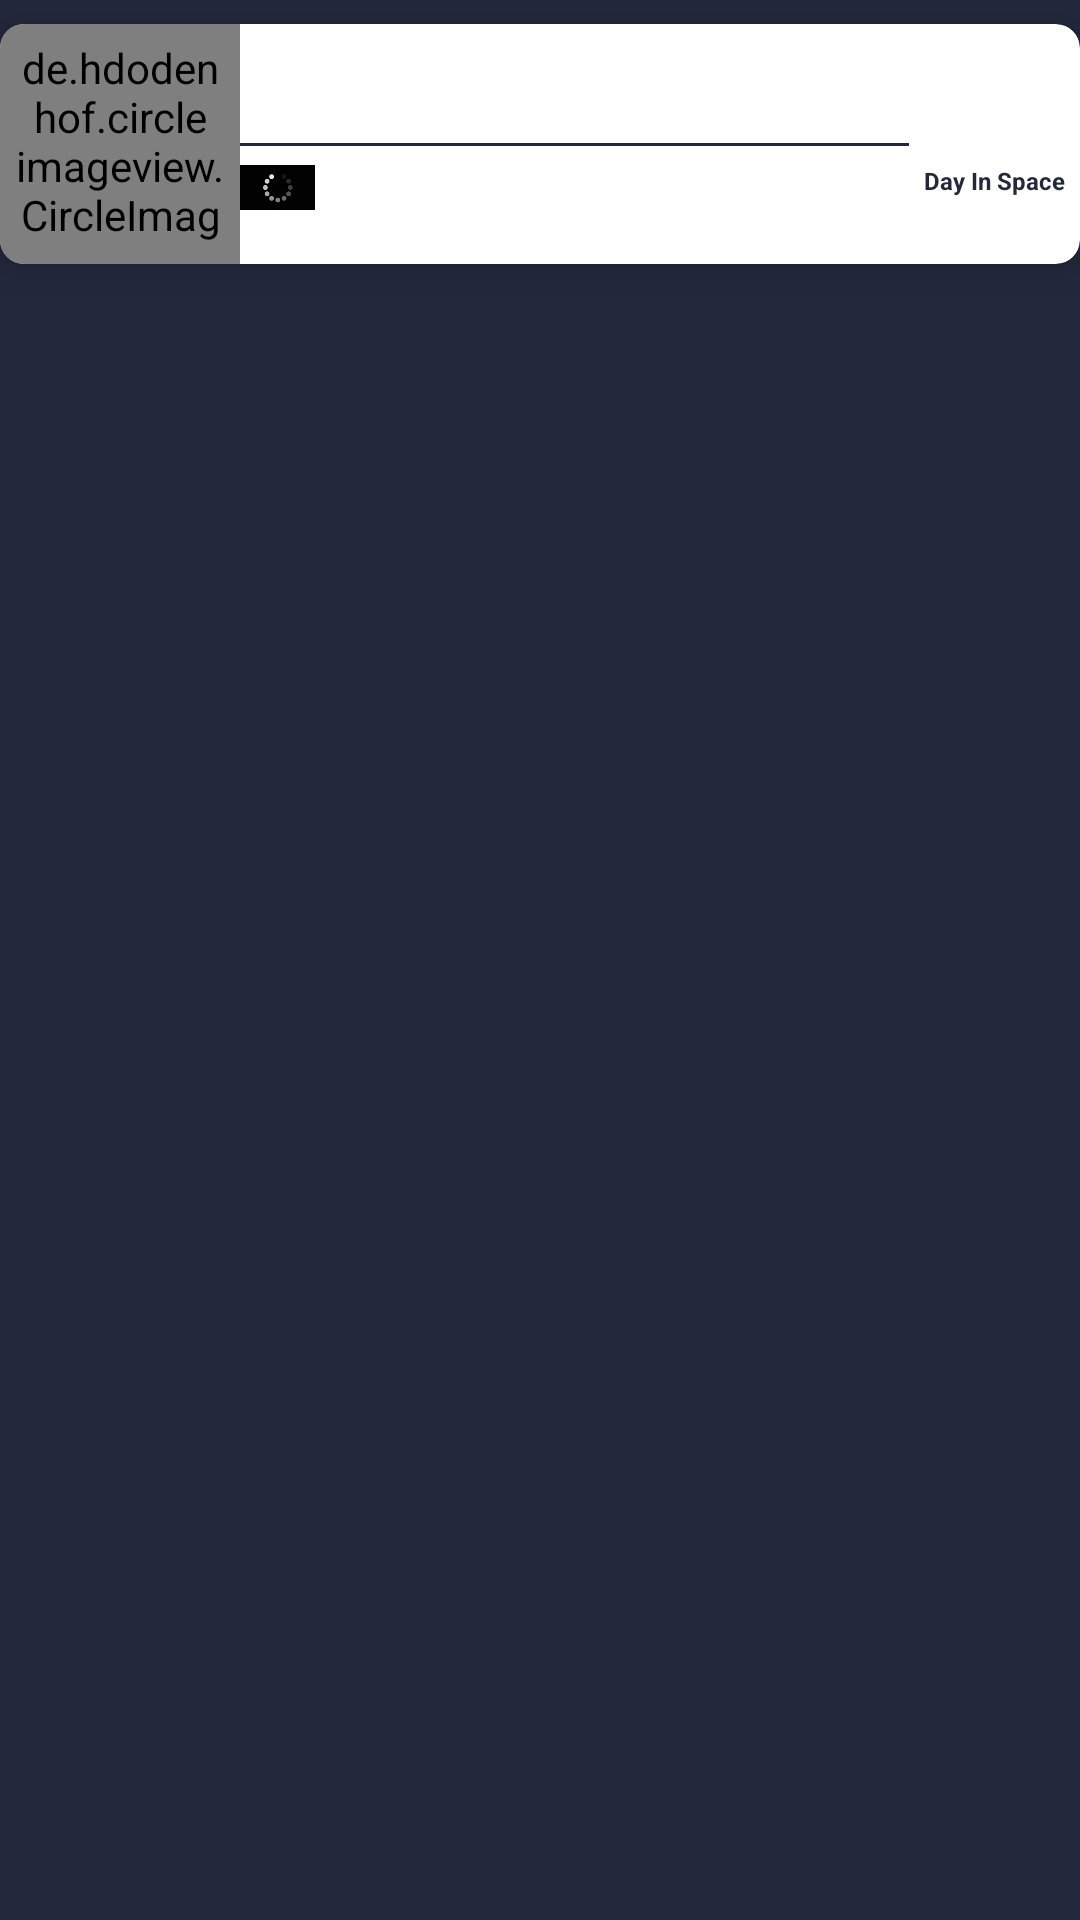

Named icons in this screenshot (1080*1920) and their centers, point (x, y):
loding: point (277, 187)
